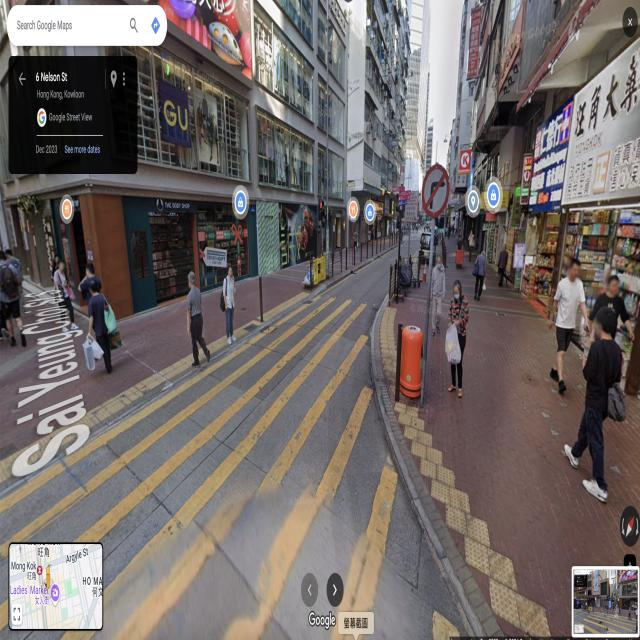Order-Sign: (422, 168, 447, 212)
